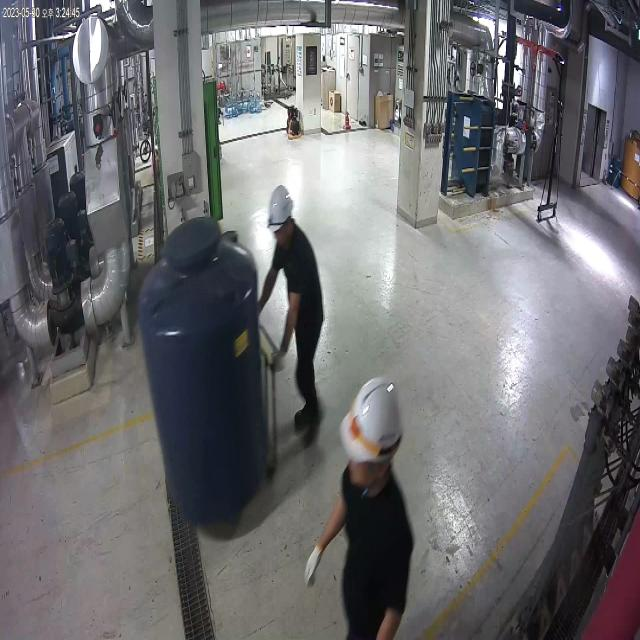Water Tank: (134, 206, 278, 544)
worker: (306, 375, 418, 640), (254, 172, 326, 445)
